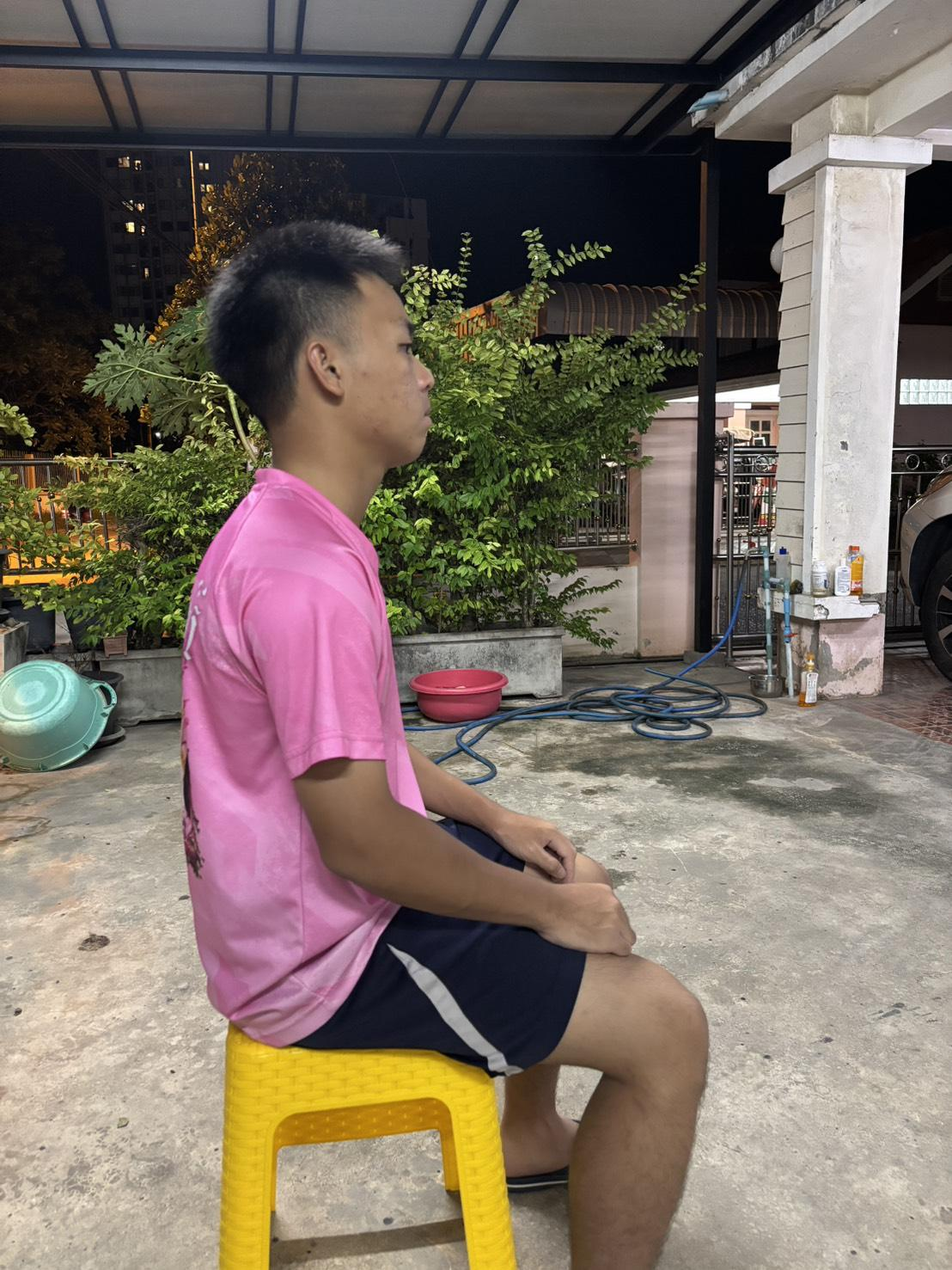GoodPosture: (181, 221, 707, 1269)
